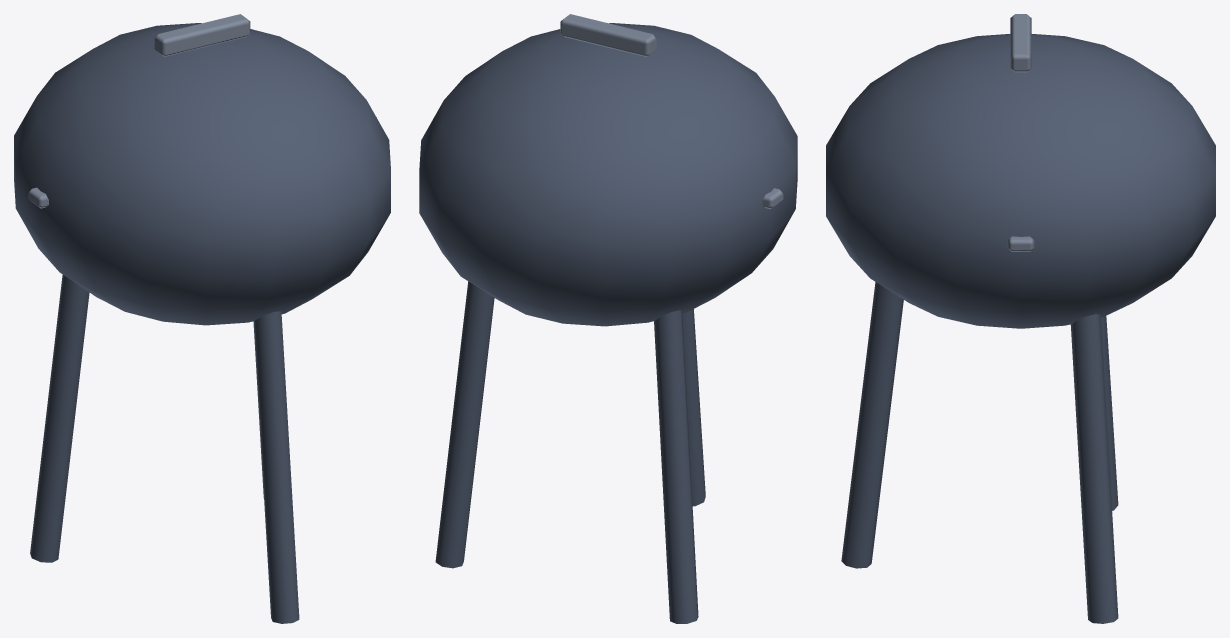
Rendered from 球形烧烤炉-lite.glb.
3 views of the same model, side by side, from view 1: azimuth 30°, elevation 25°; view 2: azimuth 150°, elevation 25°; view 3: azimuth 270°, elevation 25° (orthographic).
Visible parts, largest first — view 1: garden-barbecue-kettle; view 2: garden-barbecue-kettle; view 3: garden-barbecue-kettle.
Boxes of the visible parts, x1,y1,x2,y2 form: garden-barbecue-kettle: (14, 14, 390, 623); garden-barbecue-kettle: (419, 14, 797, 623); garden-barbecue-kettle: (826, 14, 1215, 623).
Bounding box in the file's own units: 0.7 × 1.05 × 0.7.
